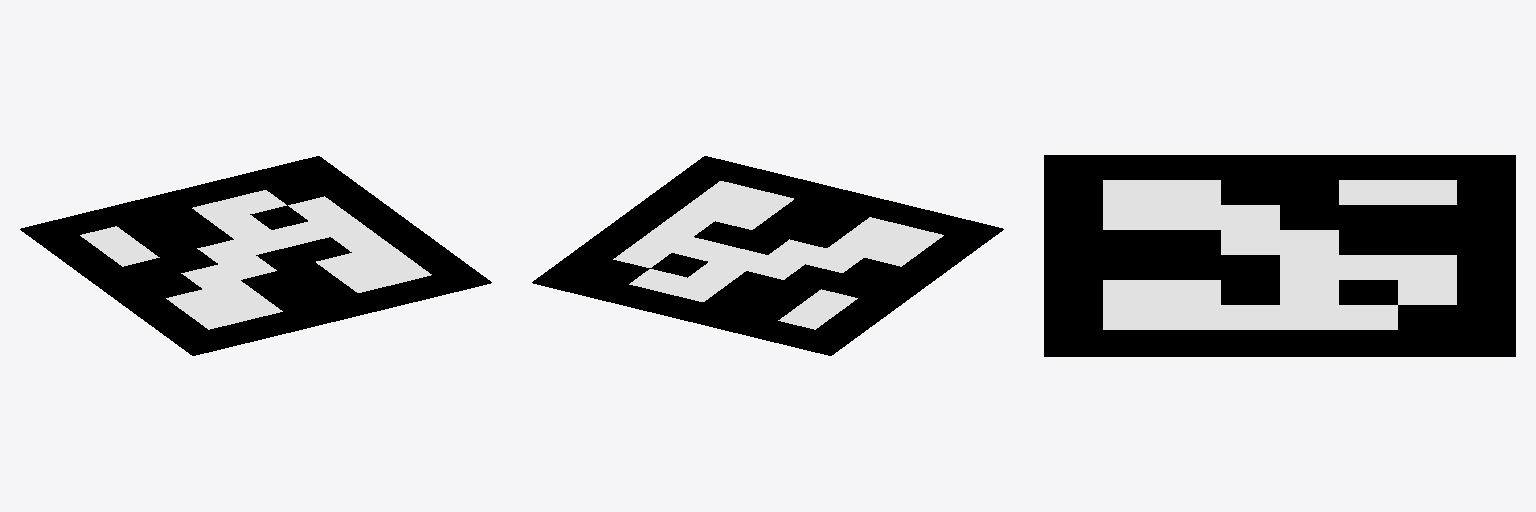
URDF robot description (aruco_tag):
<?xml version="1.0" encoding="utf-8"?>
<!-- This URDF was automatically created by SolidWorks to URDF Exporter! Originally created by [author] ([email redacted]) 
     Commit Version: 1.6.0-4-g7f85cfe  Build Version: 1.6.7995.38578
     For more information, please see http://wiki.ros.org/sw_urdf_exporter -->
<robot
  name="aruco_tag">
  <link
    name="aruco_black">
    <inertial>
      <origin
        xyz="0.00095515 0.00084441 0.0005"
        rpy="0 0 0" />
      <mass
        value="0.026875" />
      <inertia
        ixx="0.00010781"
        ixy="1.2556E-06"
        ixz="1.8431E-24"
        iyy="0.00010282"
        iyz="2.4944E-23"
        izz="0.00021063" />
    </inertial>
    <visual>
      <origin
        xyz="0 0 0"
        rpy="0 0 0" />
      <geometry>
        <mesh
          filename="package://aruco_tag/meshes/aruco_black.STL" />
      </geometry>
      <material
        name="">
        <color
          rgba="0 0 0 1" />
      </material>
    </visual>
    <collision>
      <origin
        xyz="0 0 0"
        rpy="0 0 0" />
      <geometry>
        <mesh
          filename="package://aruco_tag/meshes/aruco_black.STL" />
      </geometry>
    </collision>
  </link>
  <link
    name="aruco_white">
    <inertial>
      <origin
        xyz="0.0089286 -0.0053571 0.0005"
        rpy="0 0 0" />
      <mass
        value="0.013125" />
      <inertia
        ixx="2.0329E-05"
        ixy="-5.8594E-06"
        ixz="1.2925E-23"
        iyy="2.256E-05"
        iyz="1.6305E-23"
        izz="4.2887E-05" />
    </inertial>
    <visual>
      <origin
        xyz="0 0 0"
        rpy="0 0 0" />
      <geometry>
        <mesh
          filename="package://aruco_tag/meshes/aruco_white.STL" />
      </geometry>
      <material
        name="">
        <color
          rgba="1 1 1 1" />
      </material>
    </visual>
    <collision>
      <origin
        xyz="0 0 0"
        rpy="0 0 0" />
      <geometry>
        <mesh
          filename="package://aruco_tag/meshes/aruco_white.STL" />
      </geometry>
    </collision>
  </link>
  <joint
    name="black_to_white"
    type="fixed">
    <origin
      xyz="0 0 0"
      rpy="0 0 0" />
    <parent
      link="aruco_black" />
    <child
      link="aruco_white" />
    <axis
      xyz="-1 0 0" />
  </joint>
</robot>

--- Render facts (derived) ---
Views: 3 orthographic renders of the robot side by side, from view 1: azimuth 30°, elevation 25°; view 2: azimuth 150°, elevation 25°; view 3: azimuth 270°, elevation 25°.
Robot: aruco_tag — 2 links, 1 joints (1 fixed); root link aruco_black; default pose: all joints at 0.
Visible links, largest first — view 1: aruco_black, aruco_white; view 2: aruco_black, aruco_white; view 3: aruco_black, aruco_white.
Link boxes in pixels (bbox=[...]): aruco_black: bbox=[20, 156, 491, 355]; aruco_white: bbox=[80, 190, 431, 329]; aruco_black: bbox=[532, 156, 1003, 355]; aruco_white: bbox=[613, 181, 943, 329]; aruco_black: bbox=[1044, 155, 1515, 356]; aruco_white: bbox=[1103, 180, 1456, 329].
Bounding box of the posed robot: 0.2 × 0.2 × 0.001 m (x, y, z).
2 mesh visuals loaded from 2 distinct referenced files (2 binary STL).